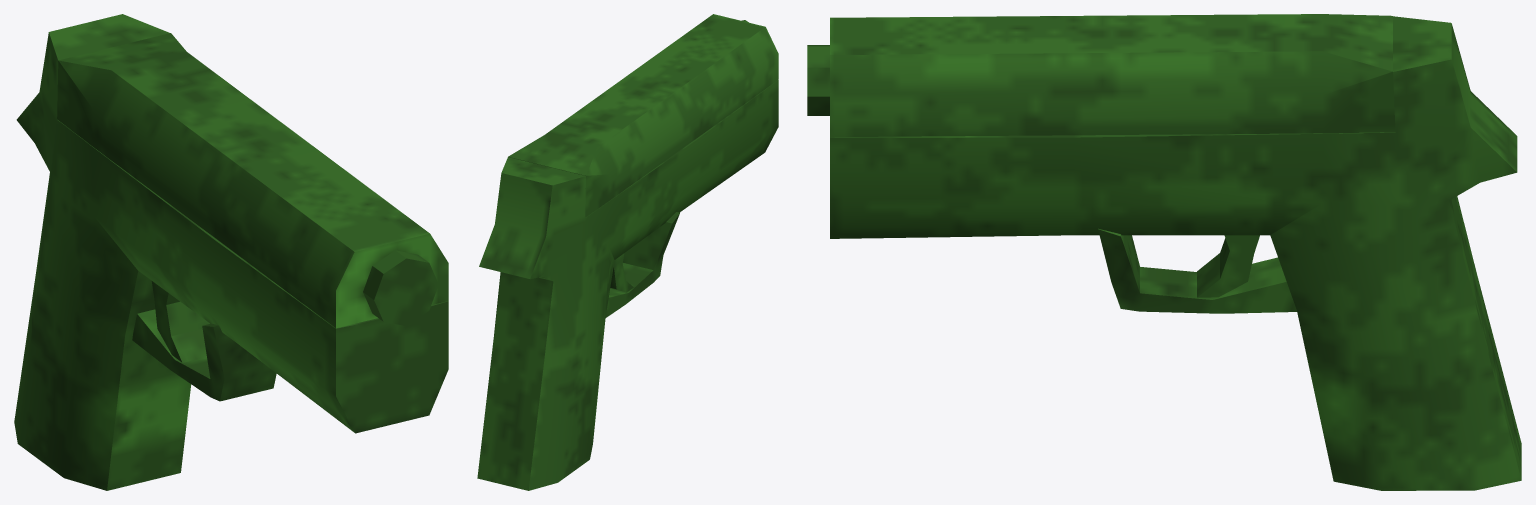
Rendered from GUN.obj.
3 views of the same model, side by side, from view 1: azimuth 30°, elevation 25°; view 2: azimuth 150°, elevation 25°; view 3: azimuth 270°, elevation 25° (orthographic). The views are drawn at different scales.
Parts seen in each view (by area): view 1: cube; view 2: cube; view 3: cube.
Boxes of the visible parts, <box> form: cube: <box>14,14,448,490</box>; cube: <box>477,14,778,490</box>; cube: <box>807,14,1521,490</box>.
Size of the model in its own units: 1.39 by 5.01 by 7.54.
